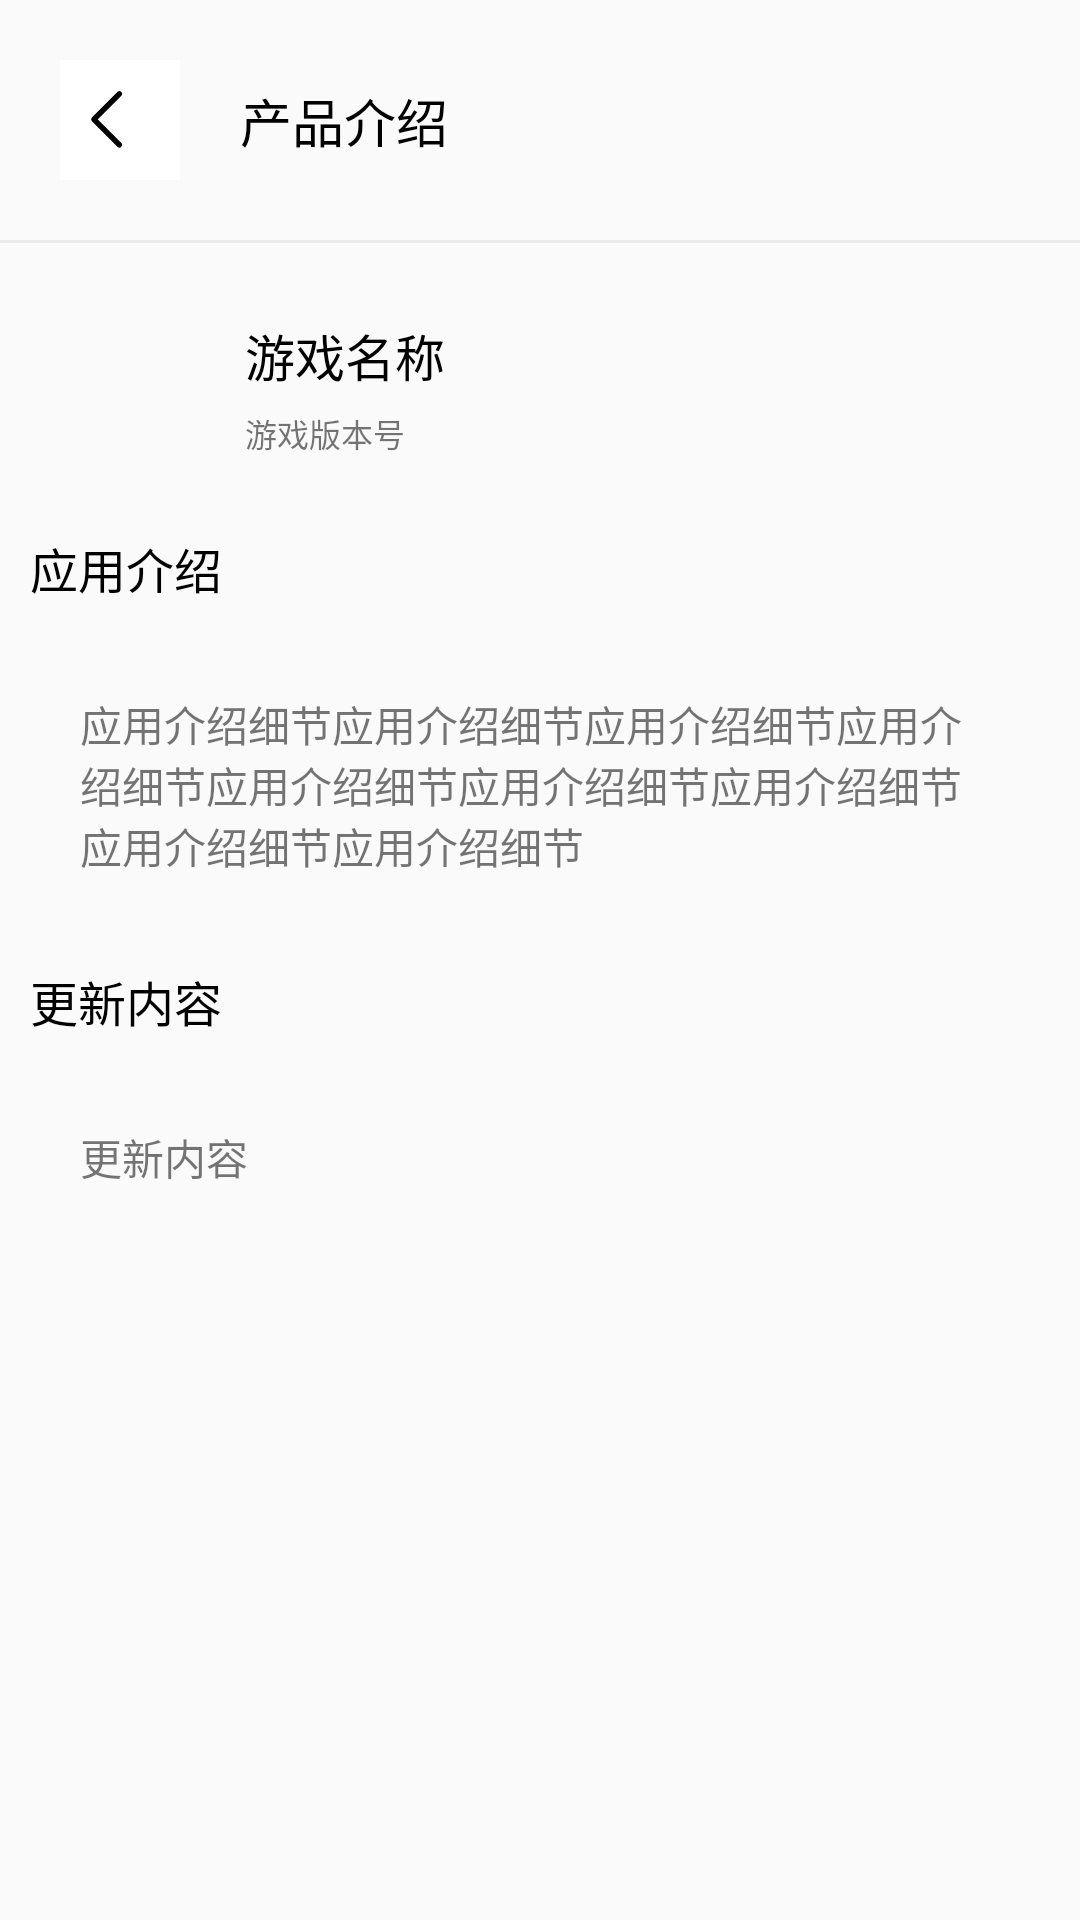

Where to tap for icons on this 1080px×1920px app screen, as point (x, y):
return: point (107, 119)
